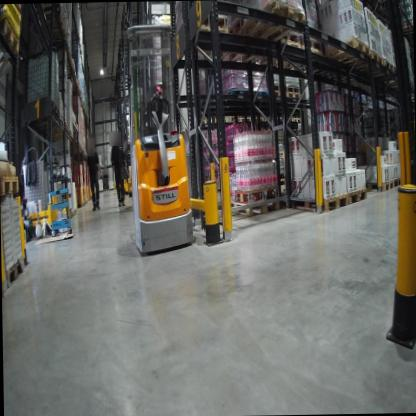pallet: (214, 1, 309, 65), (165, 20, 235, 55), (253, 33, 303, 76), (212, 195, 281, 223), (291, 188, 349, 215), (280, 44, 327, 77), (321, 33, 372, 63), (33, 15, 71, 47), (345, 40, 384, 70), (4, 254, 31, 295), (22, 103, 61, 130), (355, 57, 395, 82), (0, 13, 20, 60), (0, 166, 20, 201), (354, 176, 396, 192), (219, 86, 253, 103), (40, 118, 69, 137), (43, 130, 74, 145), (394, 13, 413, 36), (347, 185, 368, 205), (211, 114, 233, 127), (252, 88, 272, 102), (286, 87, 305, 99), (233, 114, 252, 126), (192, 116, 211, 127), (263, 113, 278, 125), (275, 113, 294, 122), (270, 91, 286, 101), (0, 4, 6, 29), (392, 174, 403, 187), (251, 113, 263, 124), (293, 115, 306, 124), (360, 105, 367, 113)
pallet_truck: (119, 16, 204, 275)
